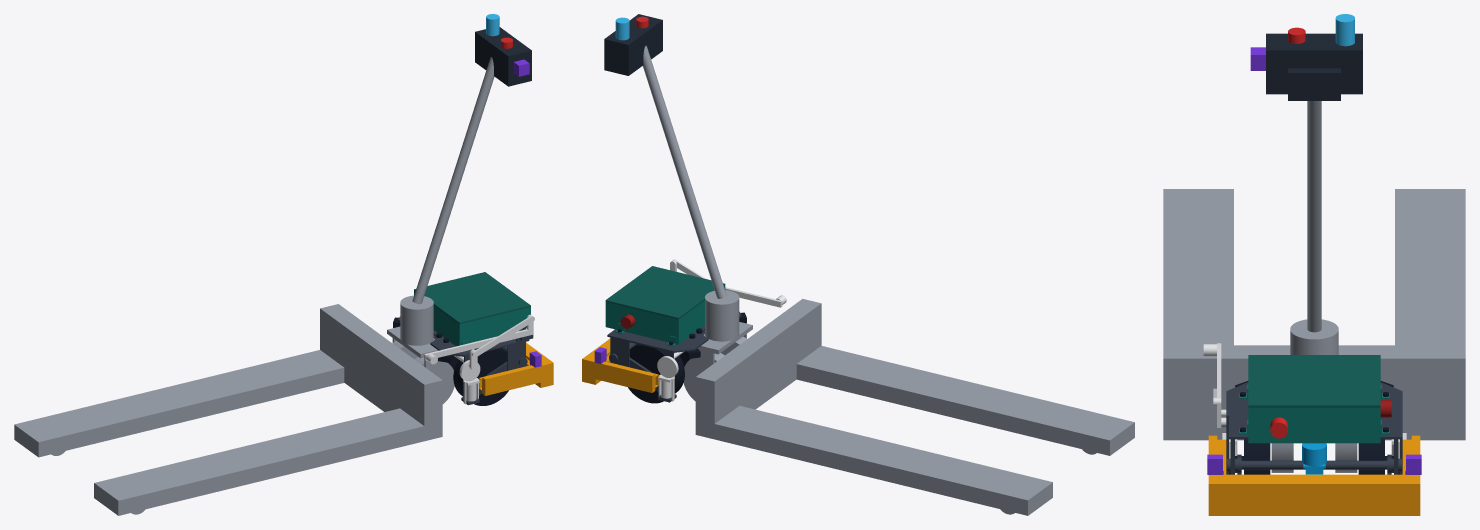
3 views of the same model, side by side, from view 1: azimuth 30°, elevation 25°; view 2: azimuth 150°, elevation 25°; view 3: azimuth 270°, elevation 25° (orthographic). The views are drawn at different scales.
Visible parts, largest first — view 1: Donor manual pallet jack (not in kit), Enclosure lid, Manual release: cam shaft, lever, springs, Tiller control head, Battery and electronics enclosure, Contact bumper (hoop and safety edge), Drive module: subframe, jaw, arms and pivot, Hub motors, 24 V, 200 mm, with brakes; view 2: Donor manual pallet jack (not in kit), Enclosure lid, Battery and electronics enclosure, Tiller control head, Drive module: subframe, jaw, arms and pivot, Contact bumper (hoop and safety edge), Manual release: cam shaft, lever, springs, Hub motors, 24 V, 200 mm, with brakes; view 3: Donor manual pallet jack (not in kit), Contact bumper (hoop and safety edge), Enclosure lid, Tiller control head, Battery and electronics enclosure, Drive module: subframe, jaw, arms and pivot, Hub motors, 24 V, 200 mm, with brakes, UWB anchors (3), Manual release: cam shaft, lever, springs, Obstacle lidar and bracket, Status beacon and buzzer, Emergency stops (2).
Part boxes in pixels (x1,y1,x2,y2): Donor manual pallet jack (not in kit): (14, 57, 494, 515); Enclosure lid: (414, 272, 530, 324); Manual release: cam shaft, lever, springs: (424, 314, 534, 404); Tiller control head: (475, 27, 531, 86); Battery and electronics enclosure: (414, 291, 530, 346); Contact bumper (hoop and safety edge): (479, 342, 553, 395); Drive module: subframe, jaw, arms and pivot: (398, 316, 533, 405); Hub motors, 24 V, 200 mm, with brakes: (448, 348, 508, 405); Donor manual pallet jack (not in kit): (643, 45, 1134, 515); Enclosure lid: (605, 266, 725, 319); Battery and electronics enclosure: (605, 286, 725, 346); Tiller control head: (604, 14, 662, 75); Drive module: subframe, jaw, arms and pivot: (607, 311, 741, 402); Contact bumper (hoop and safety edge): (582, 338, 658, 392); Manual release: cam shaft, lever, springs: (657, 259, 786, 401); Hub motors, 24 V, 200 mm, with brakes: (628, 344, 690, 403); Donor manual pallet jack (not in kit): (1163, 101, 1465, 472); Contact bumper (hoop and safety edge): (1208, 435, 1420, 515); Enclosure lid: (1248, 355, 1380, 407); Tiller control head: (1266, 33, 1362, 100); Battery and electronics enclosure: (1239, 384, 1389, 443); Drive module: subframe, jaw, arms and pivot: (1221, 382, 1402, 474); Hub motors, 24 V, 200 mm, with brakes: (1235, 439, 1393, 474); UWB anchors (3): (1207, 47, 1421, 474); Manual release: cam shaft, lever, springs: (1203, 343, 1406, 458); Obstacle lidar and bracket: (1302, 443, 1326, 474); Status beacon and buzzer: (1335, 14, 1354, 46); Emergency stops (2): (1270, 27, 1305, 438).
Bounding box in the file's own units: 1.73 × 1.28 × 0.685.
